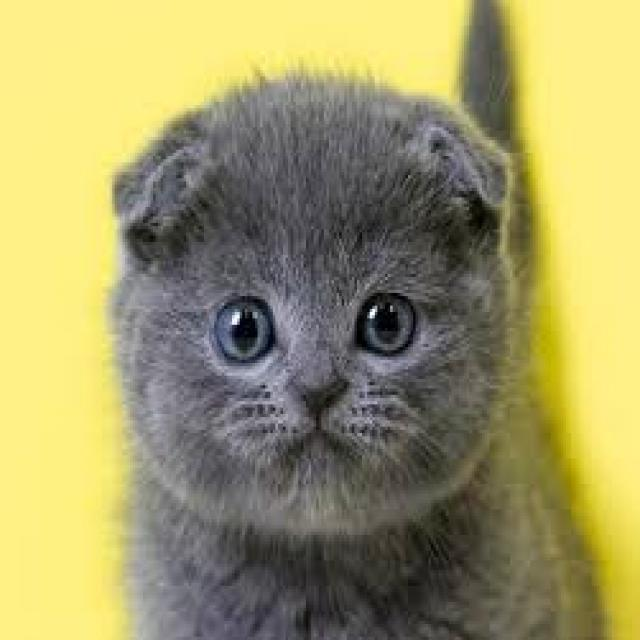cat-face: (78, 30, 589, 583)
